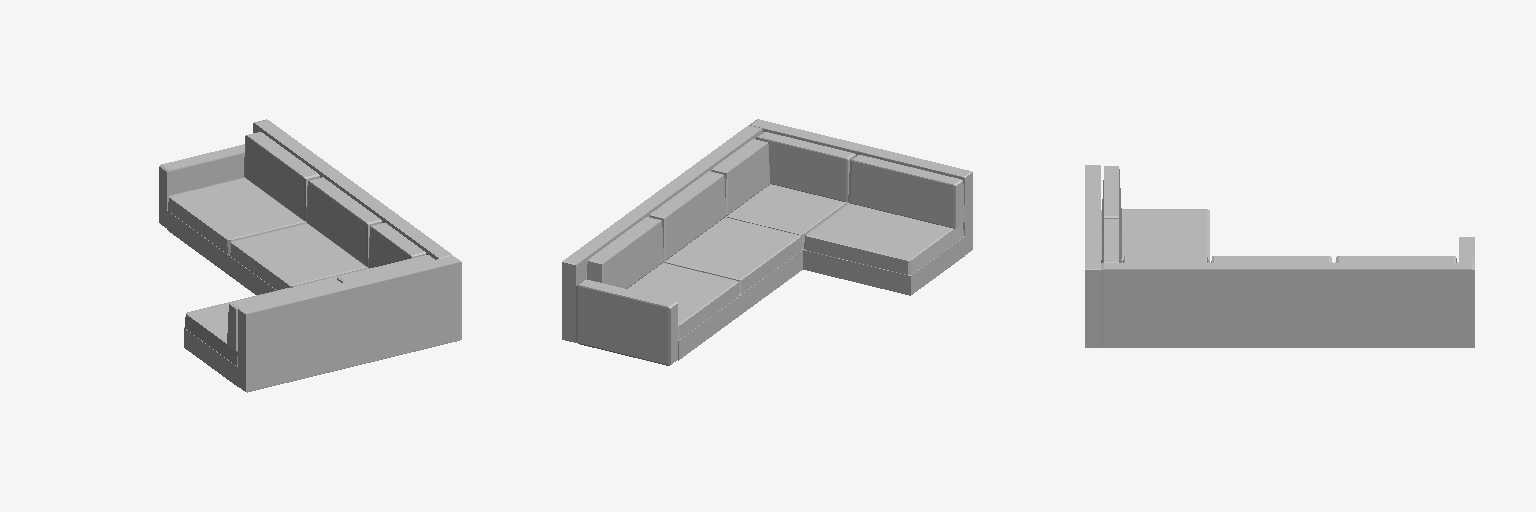
Rendered from Couch.obj.
3 renders of one model, left to right at view 1: azimuth 30°, elevation 25°; view 2: azimuth 150°, elevation 25°; view 3: azimuth 270°, elevation 25°, orthographic.
Size of the model in its own units: 2.3 by 0.8 by 3.58.